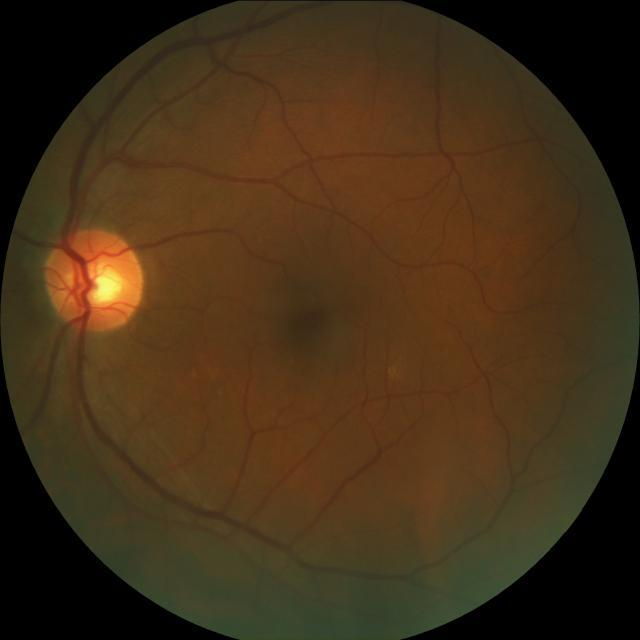OC: (89, 264, 123, 304)
OD: (42, 226, 142, 332)
